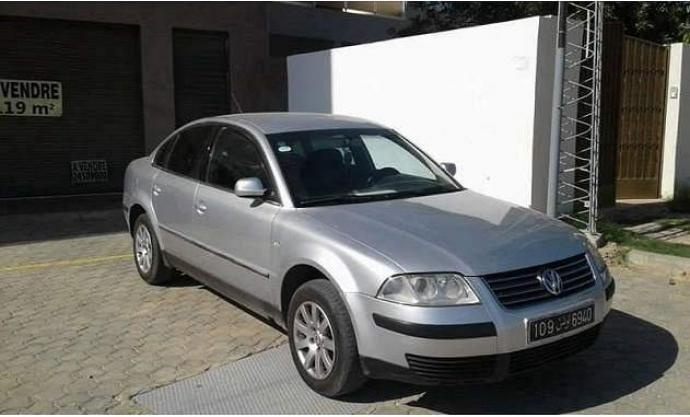LP: (524, 302, 597, 344)
